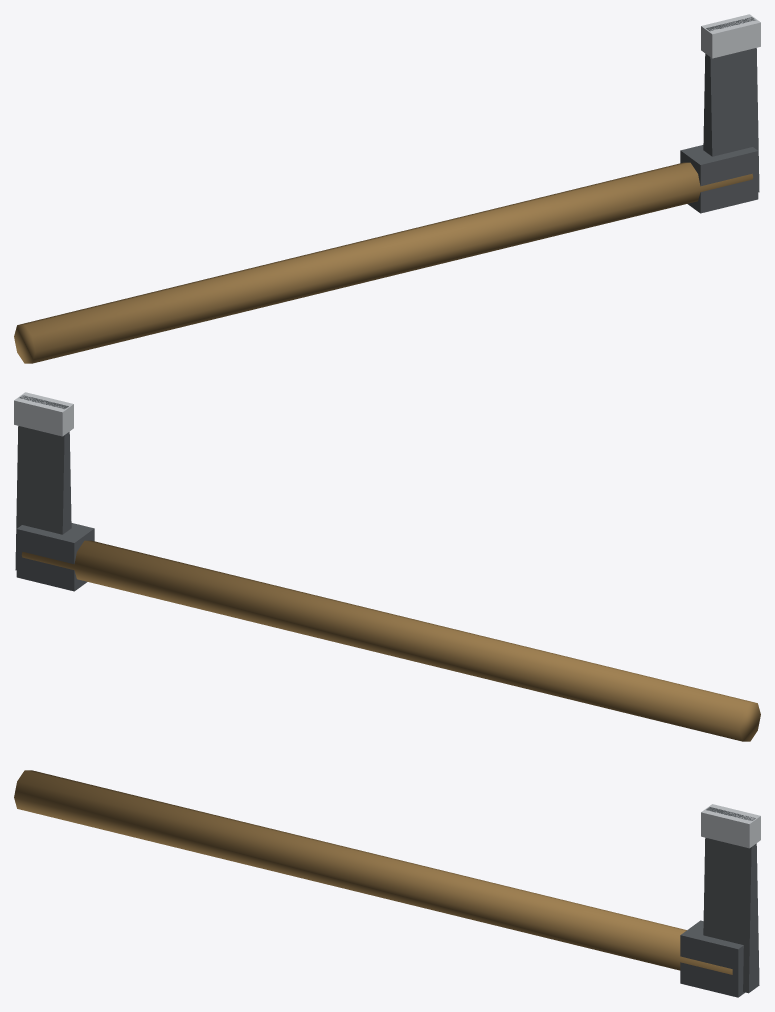
Rendered from axe.glb.
3 views of the same model, one above another, from view 1: azimuth 30°, elevation 25°; view 2: azimuth 150°, elevation 25°; view 3: azimuth 330°, elevation 25° (orthographic).
Visible parts, largest first — view 1: Item; view 2: Item; view 3: Item.
Boxes of the visible parts, <box> form: Item: <box>14,14,760,363</box>; Item: <box>14,392,760,741</box>; Item: <box>14,770,760,997</box>.
Size of the model in its own units: 0.631 by 0.142 by 0.032.
